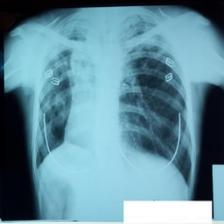tuberculosis: (26, 18, 195, 188)
